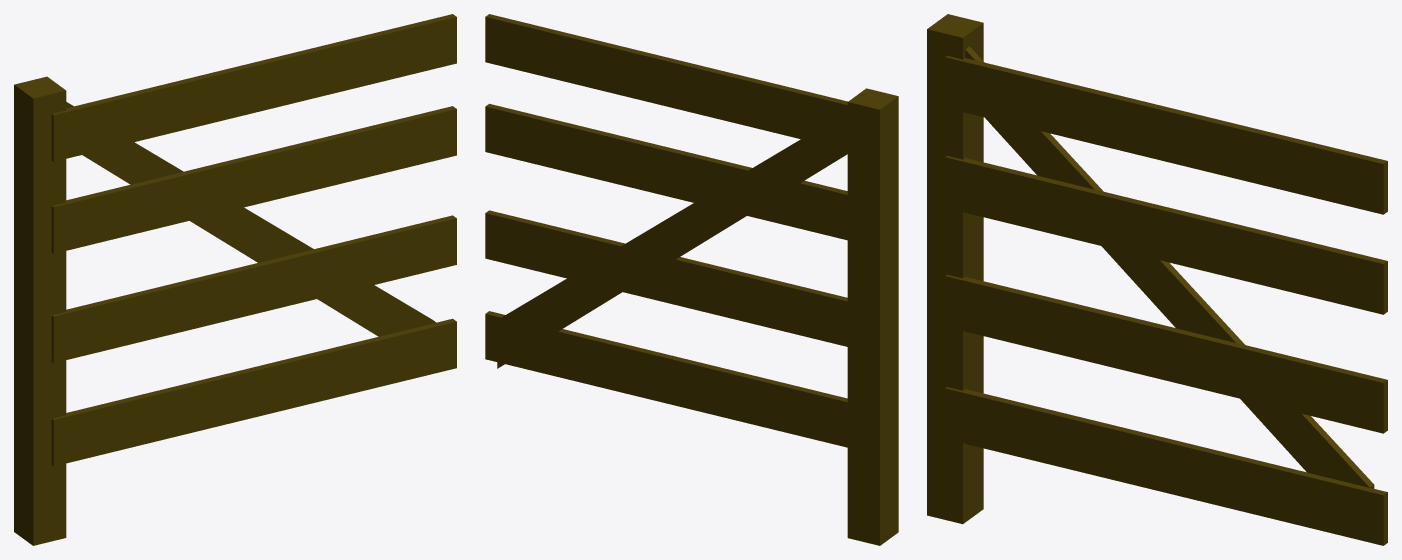
Rendered from Wooden Fence Left Post.fbx.
3 renders of one model, left to right at view 1: azimuth 30°, elevation 25°; view 2: azimuth 150°, elevation 25°; view 3: azimuth 330°, elevation 25°, orthographic. The views are drawn at different scales.
Parts seen in each view (by area): view 1: pCube23, pCube7; view 2: pCube23, pCube7; view 3: pCube23, pCube7.
Boxes of the visible parts, bbox=[...] form: pCube23: bbox=[51, 14, 456, 466]; pCube7: bbox=[14, 76, 66, 545]; pCube23: bbox=[485, 14, 847, 447]; pCube7: bbox=[847, 88, 898, 545]; pCube23: bbox=[945, 46, 1387, 545]; pCube7: bbox=[927, 14, 983, 524].
Size of the model in its own units: 2.55 by 2.59 by 0.219.
